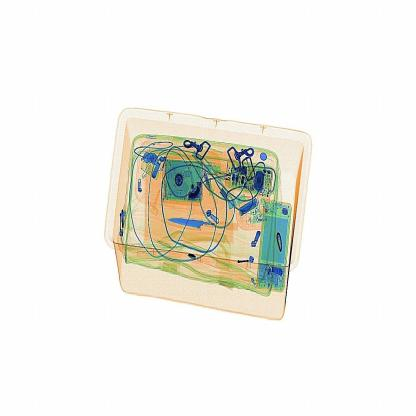wrench: (158, 213, 248, 239)
